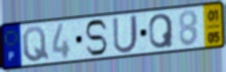4: (51, 21, 74, 61)
8: (178, 8, 201, 48)
Q: (21, 25, 51, 64), (148, 13, 175, 51)
S: (84, 19, 109, 58)
U: (111, 14, 139, 56)
